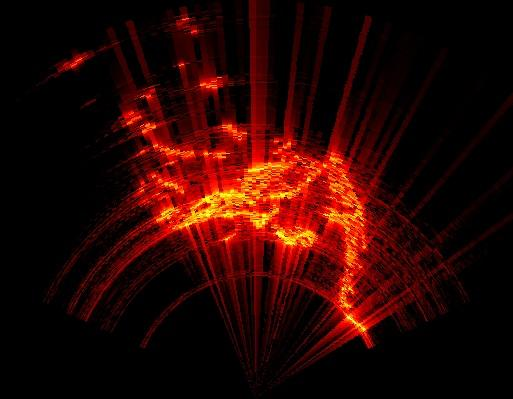shipwreck: (174, 155, 320, 228), (322, 152, 366, 332), (278, 228, 320, 244), (170, 205, 175, 211), (163, 210, 167, 213)
